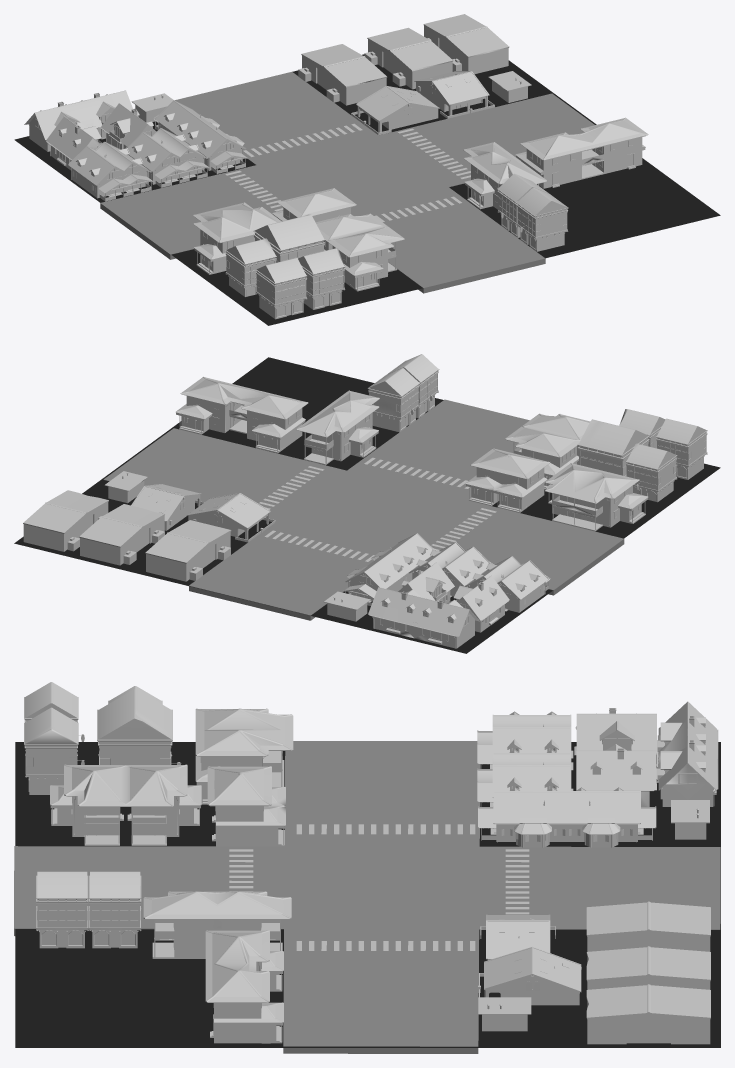
The model's file is street_env.fbx.
3 views of the same model, one above another, from view 1: azimuth 30°, elevation 25°; view 2: azimuth 150°, elevation 25°; view 3: azimuth 270°, elevation 25° (orthographic). The views are drawn at different scales.
Visible parts, largest first — view 1: Line002, Plane001, City_building_026, City_building_022, City_building_007, City_building_011, City_building_023, City_building_004, City_building_038, City_building_014, City_building_032, City_building_034 (+15 smaller); view 2: Line002, Plane001, City_building_026, City_building_038, City_building_033, City_building_034, City_building_037, City_building_007, City_building_011, City_building_023, City_building_022, City_building_014 (+15 smaller); view 3: Line002, Plane001, City_building_022, City_building_014, City_building_026, City_building_023, City_building_034, City_building_038, City_building_037, City_building_007, City_building_033, City_building_040 (+14 smaller).
Boxes of the visible parts, box(x1,y1,x2,y2) form: Line002: box(100, 72, 594, 293); Plane001: box(14, 54, 720, 325); City_building_026: box(515, 117, 648, 188); City_building_022: box(315, 213, 404, 291); City_building_007: box(298, 44, 387, 105); City_building_011: box(364, 27, 453, 89); City_building_023: box(423, 14, 509, 74); City_building_004: box(68, 141, 153, 201); City_building_038: box(193, 202, 281, 274); City_building_014: box(153, 100, 247, 174); City_building_032: box(127, 128, 209, 187); City_building_034: box(463, 142, 547, 209); Line002: box(103, 399, 624, 620); Plane001: box(14, 357, 720, 653); City_building_026: box(175, 376, 308, 453); City_building_038: box(545, 463, 648, 531); City_building_033: box(368, 587, 479, 648); City_building_034: box(296, 390, 379, 465); City_building_037: box(465, 448, 549, 512); City_building_007: box(145, 520, 231, 581); City_building_011: box(79, 504, 164, 565); City_building_023: box(23, 490, 108, 551); City_building_022: box(505, 413, 590, 489); City_building_014: box(343, 533, 436, 605); Line002: box(14, 741, 720, 1053); Plane001: box(15, 742, 720, 1047); City_building_022: box(50, 764, 201, 845); City_building_014: box(478, 787, 656, 847); City_building_026: box(205, 930, 283, 1043); City_building_023: box(586, 984, 710, 1044); City_building_034: box(143, 891, 291, 958); City_building_038: box(195, 708, 293, 804); City_building_037: box(207, 766, 285, 846); City_building_007: box(586, 901, 710, 951); City_building_033: box(656, 701, 718, 806); City_building_040: box(97, 689, 181, 764).
Size of the model in its own units: 2495 by 354 by 2431.
